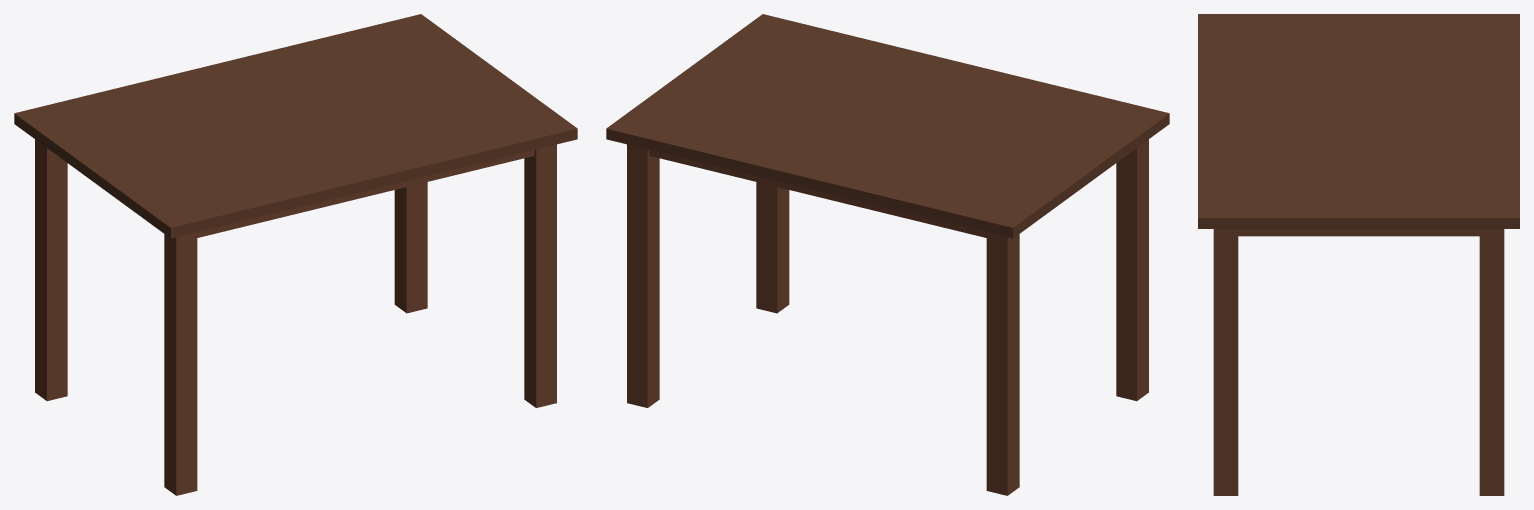
File: Table_01.fbx
3 renders of one model, left to right at view 1: azimuth 30°, elevation 25°; view 2: azimuth 150°, elevation 25°; view 3: azimuth 270°, elevation 25°, orthographic. The views are drawn at different scales.
Visible parts, largest first — view 1: Table_01; view 2: Table_01; view 3: Table_01.
Boxes of the visible parts, x1=… form: Table_01: x1=14, y1=14, x2=577, y2=495; Table_01: x1=606, y1=14, x2=1169, y2=495; Table_01: x1=1198, y1=14, x2=1519, y2=495.
Bounding box in the file's own units: 120 × 78 × 80.
